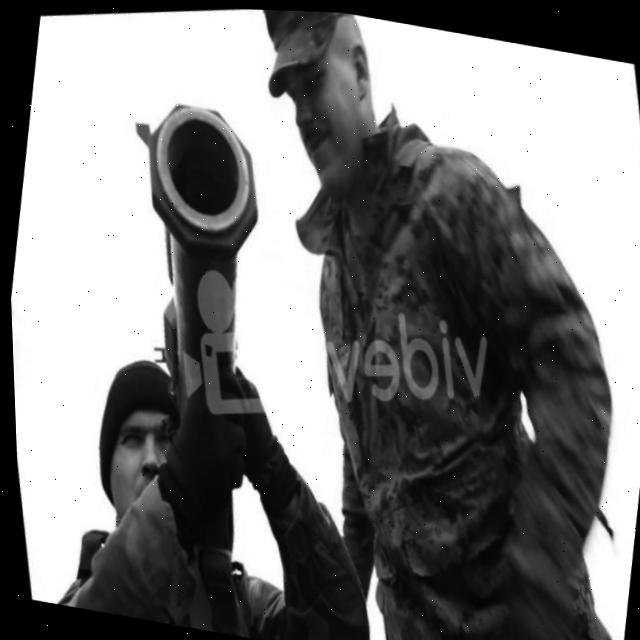rocket: (92, 79, 314, 421)
